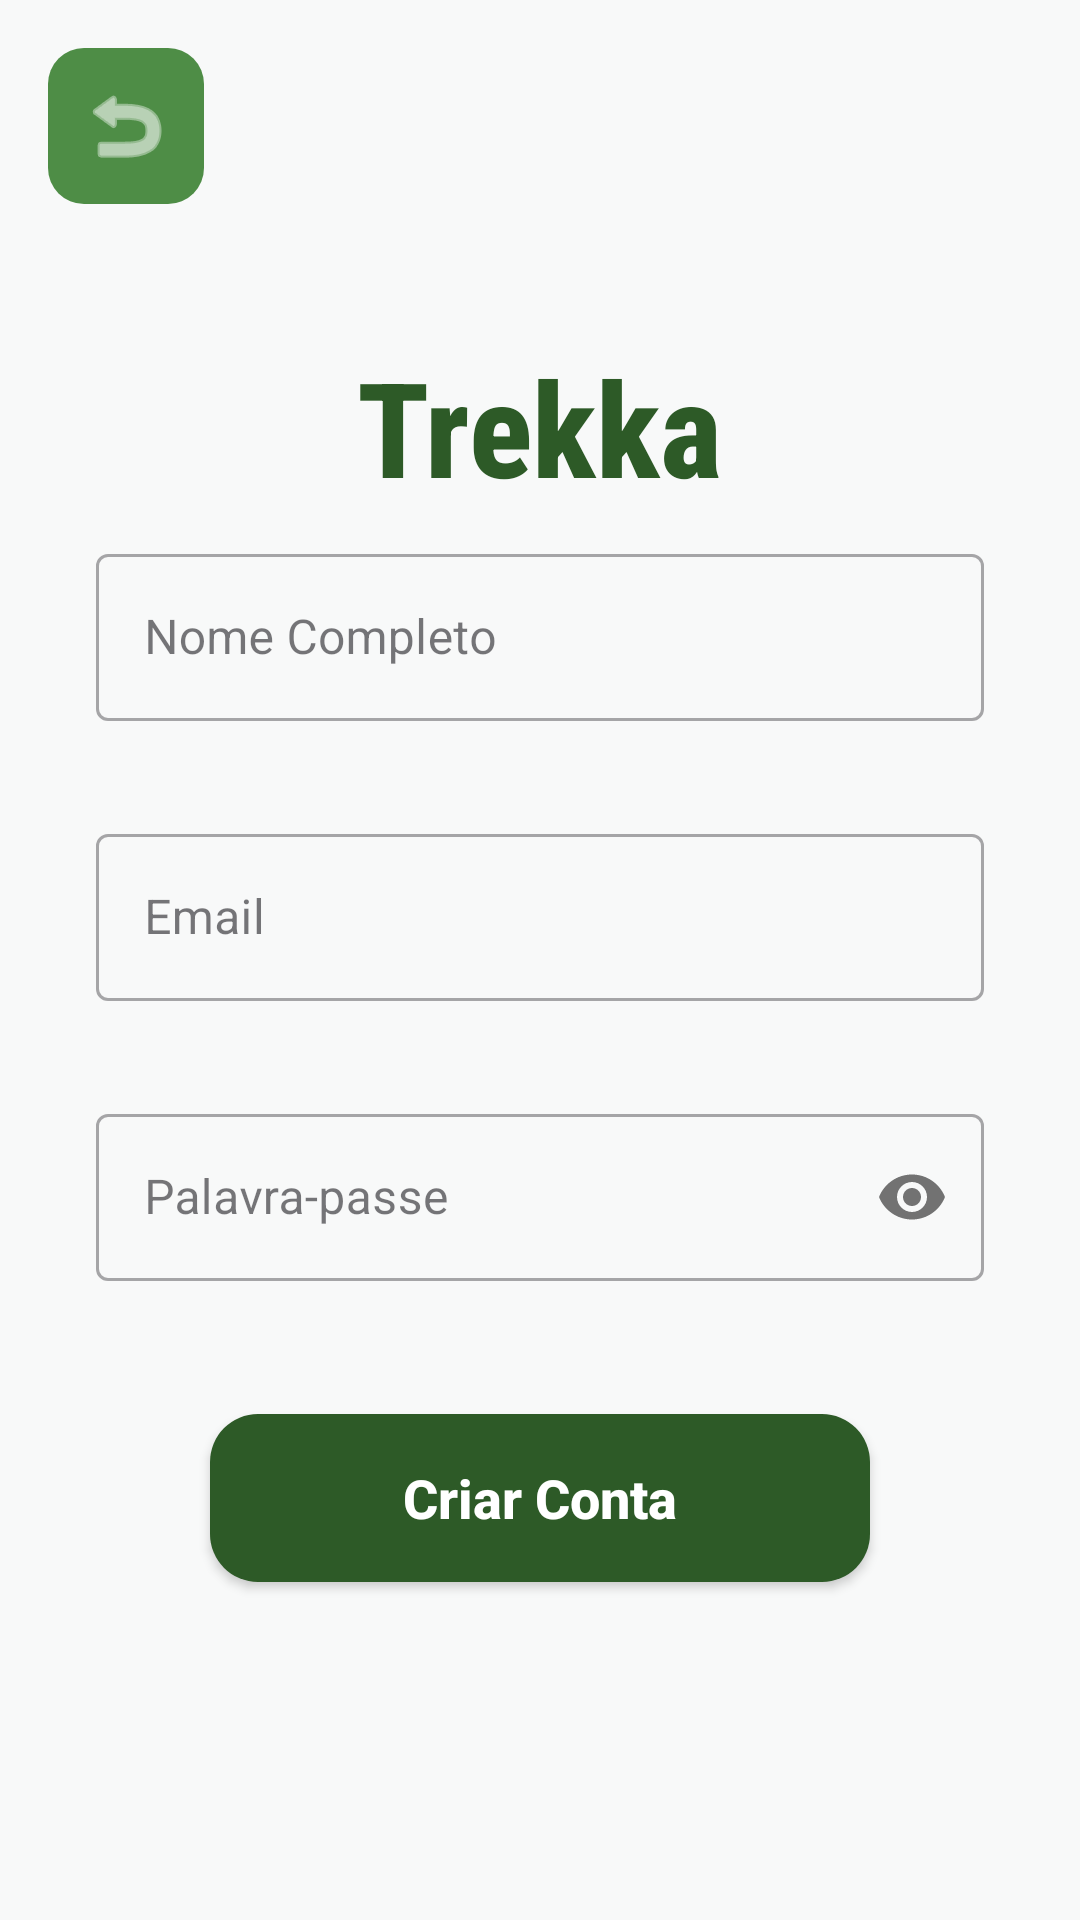

Screen size 1080 × 1920. Icon name, then its box in pixels as (x1, y1, x2, y2):
Voltar: (48, 48, 204, 204)
